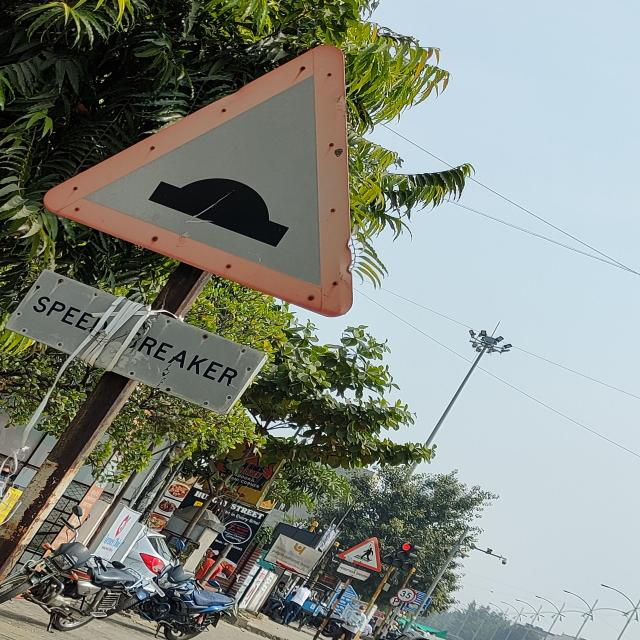horn_prohibited: (42, 46, 358, 318)
